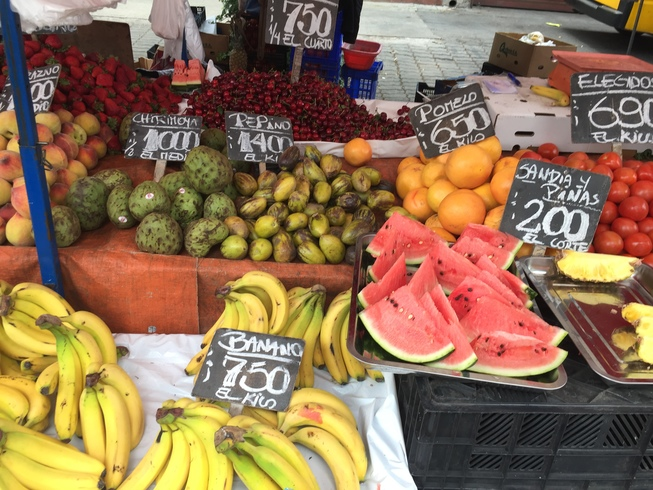precio: (496, 152, 622, 262), (188, 322, 314, 417), (407, 83, 499, 167), (565, 68, 653, 153), (117, 106, 206, 172), (225, 103, 298, 168), (252, 1, 340, 53), (1, 53, 68, 119)
